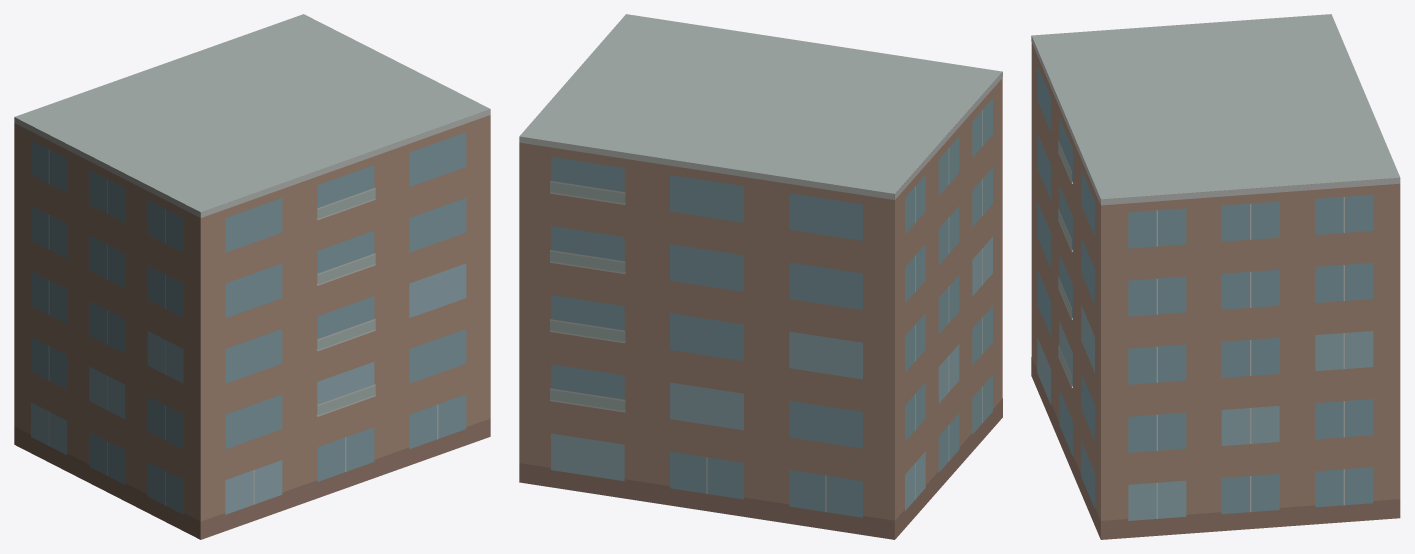
File: survey-upis-32705926.glb
3 views of the same model, side by side, from view 1: azimuth 30°, elevation 25°; view 2: azimuth 150°, elevation 25°; view 3: azimuth 270°, elevation 25° (orthographic). The views are drawn at different scales.
Parts seen in each view (by area): view 1: survey-upis-32705926.tmp; view 2: survey-upis-32705926.tmp; view 3: survey-upis-32705926.tmp.
Boxes of the visible parts, left/top/right/bottom form: survey-upis-32705926.tmp: left=14, top=14, right=490, bottom=539; survey-upis-32705926.tmp: left=519, top=14, right=1002, bottom=539; survey-upis-32705926.tmp: left=1031, top=14, right=1400, bottom=539.
Bounding box in the file's own units: 16.06 × 13.75 × 13.51.
